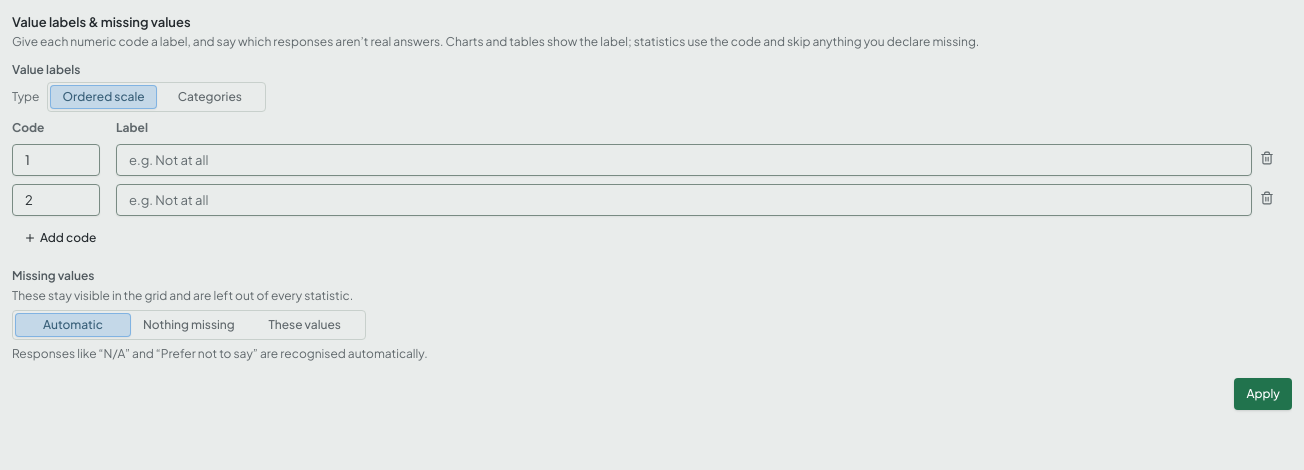
Test: #1104: a refused label edit is explained under the rows, which are kept › clears the refusal as soon as a row changes
Type "Never" into the field named "Label for row 1".
click(684, 160); type("Never")  # box [116, 144, 1252, 176]
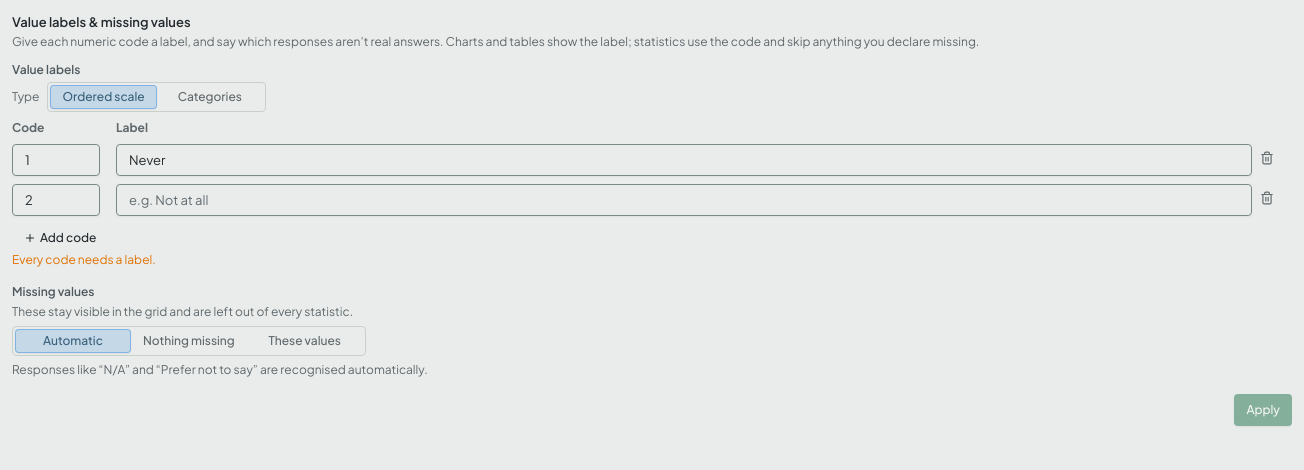
Type "Often" into the field named "Label for row 2".
click(684, 200); type("Often")  # box [116, 184, 1252, 216]
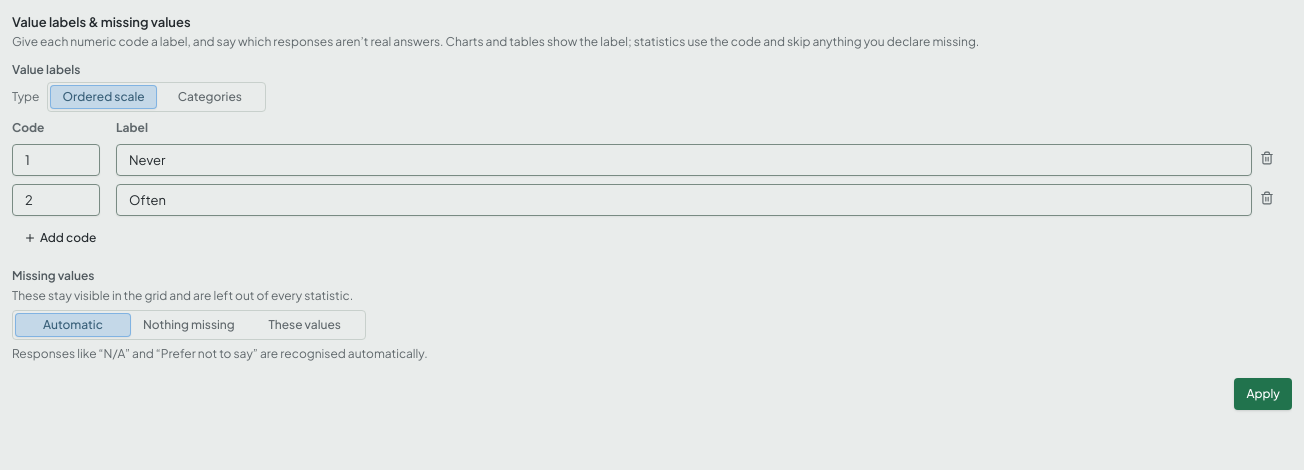
Click the button "Apply".
click(1263, 394)  # box [1234, 378, 1292, 410]
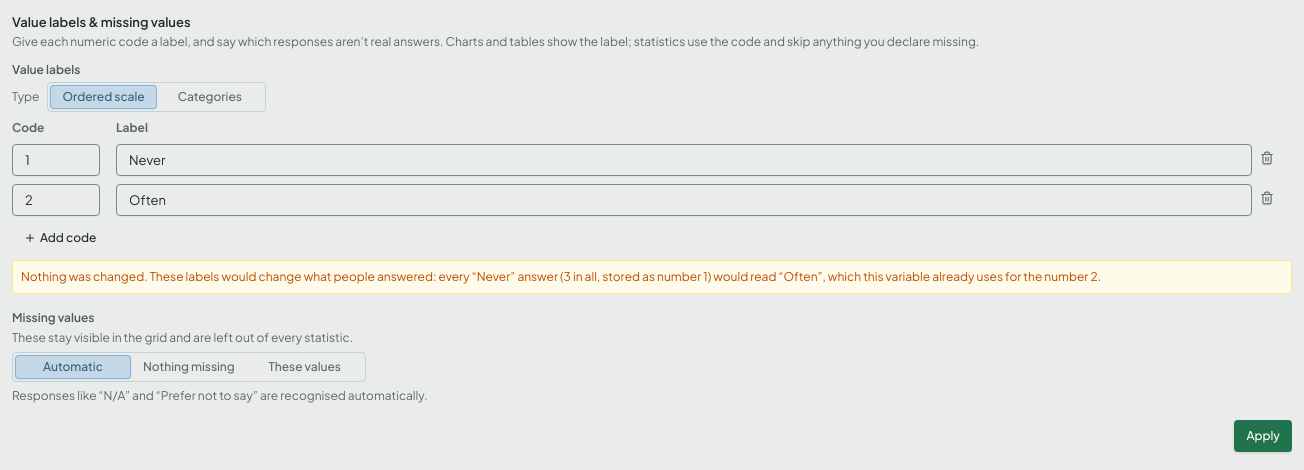
Check: the message with test id "value-labels-refusal" is shown, box [12, 260, 1292, 294]
Replace the text in the field named "Label for row 2" with "Sometimes" at (684, 200), box [116, 184, 1252, 216]
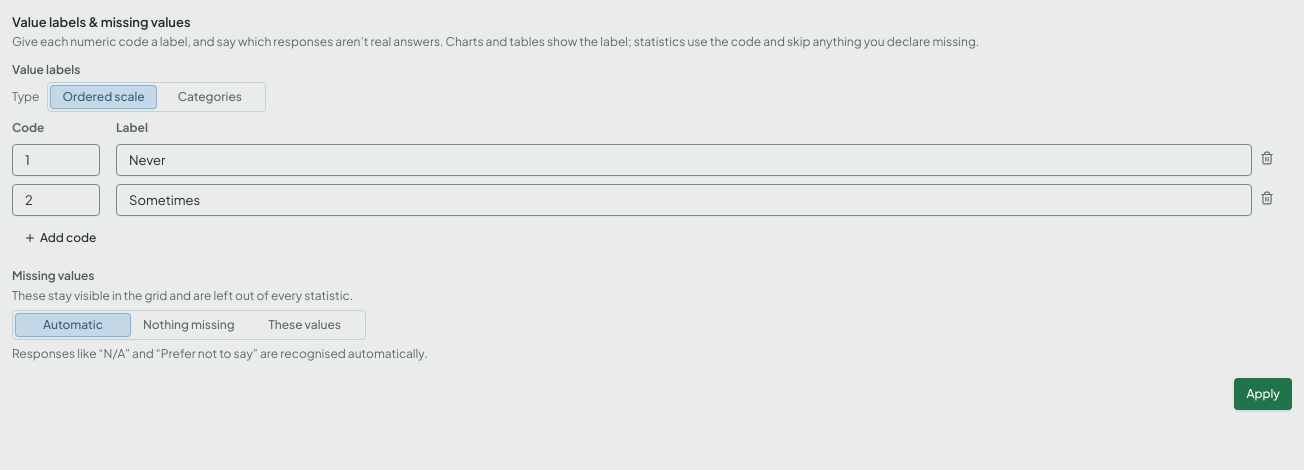
Check: the message with test id "value-labels-refusal" is gone
